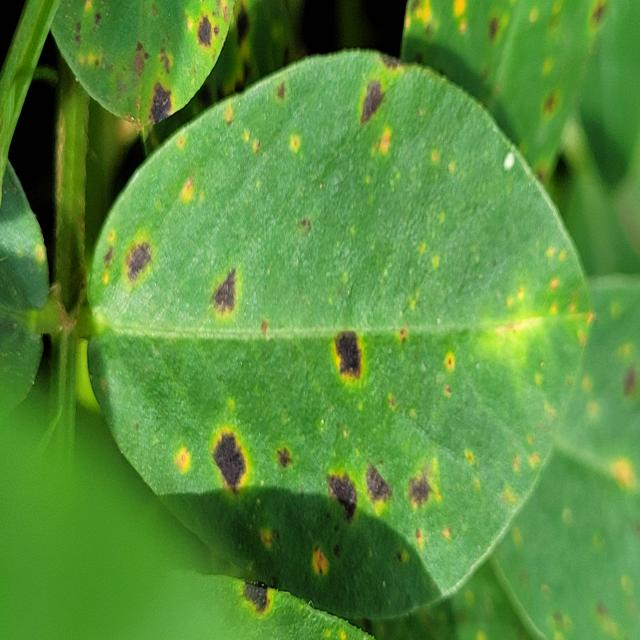Ground nut_tikka leaf spot: (79, 53, 594, 614), (47, 0, 236, 121)
